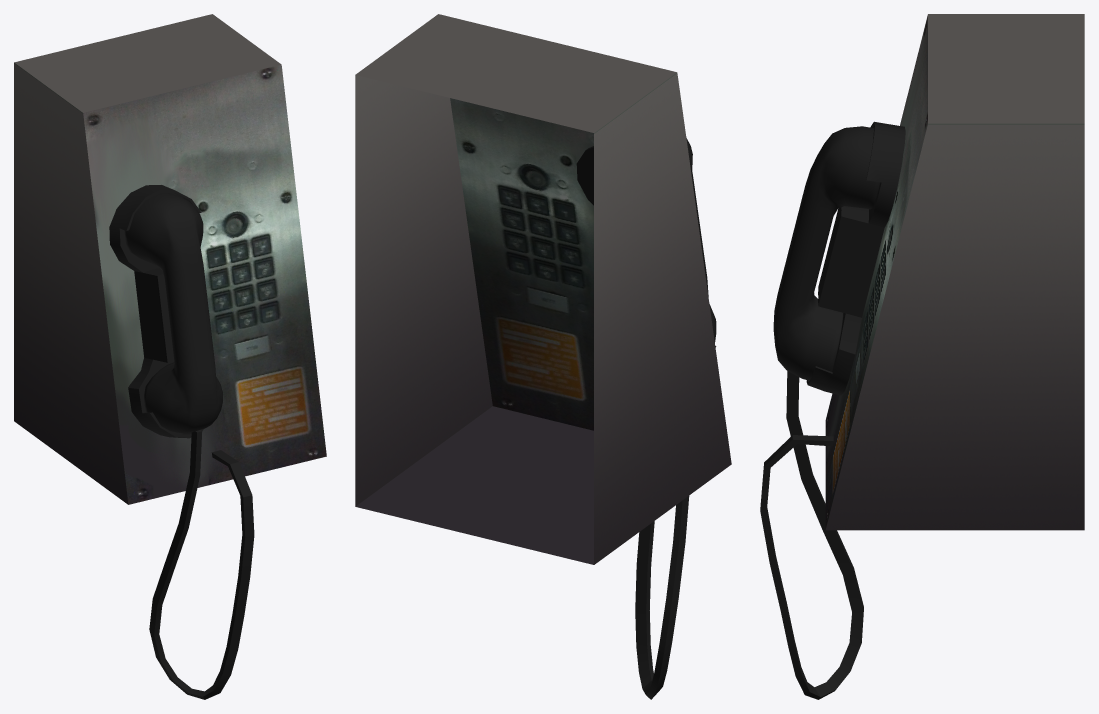
Rendered from phone.fbx.
3 views of the same model, side by side, from view 1: azimuth 30°, elevation 25°; view 2: azimuth 150°, elevation 25°; view 3: azimuth 270°, elevation 25° (orthographic). The views are drawn at different scales.
Visible parts, largest first — view 1: pCube1, polySurface1, pCube2; view 2: pCube1, pCube2, polySurface1; view 3: pCube1, polySurface1, pCube2.
Part boxes in pixels (x1=…): pCube1: x1=14, y1=14, x2=326, y2=504; polySurface1: x1=109, y1=185, x2=222, y2=438; pCube2: x1=149, y1=430, x2=254, y2=699; pCube1: x1=355, y1=14, x2=731, y2=564; pCube2: x1=635, y1=496, x2=689, y2=699; polySurface1: x1=576, y1=138, x2=716, y2=347; pCube1: x1=825, y1=14, x2=1084, y2=530; polySurface1: x1=773, y1=121, x2=905, y2=395; pCube2: x1=760, y1=371, x2=863, y2=699.
Bounding box in the file's own units: 1.39 × 3.82 × 1.74.
1 material, 1 textured.
